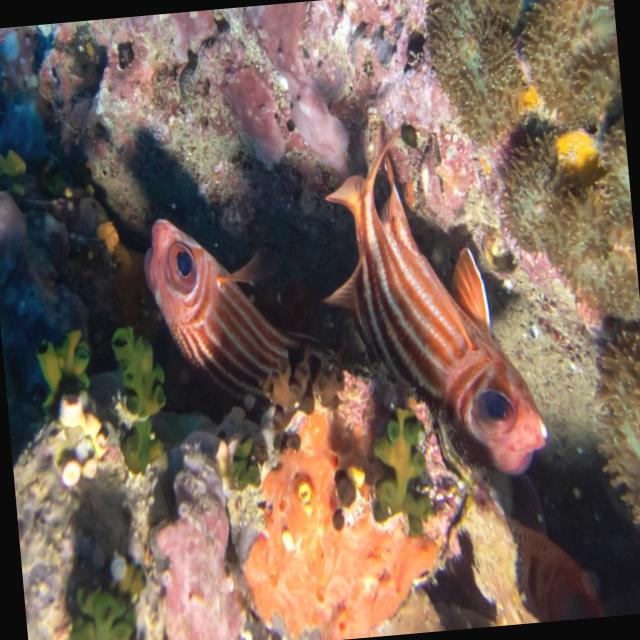Asker Baligi: (304, 113, 552, 493), (136, 200, 347, 428)
